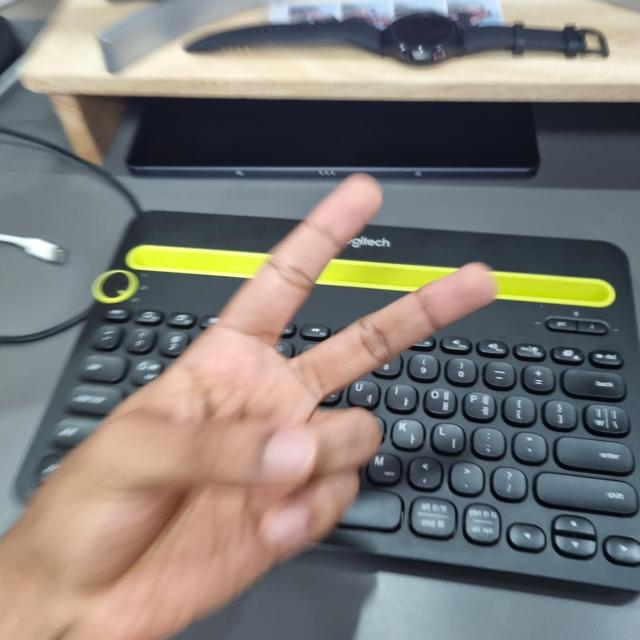Scissors: (14, 175, 492, 639)
